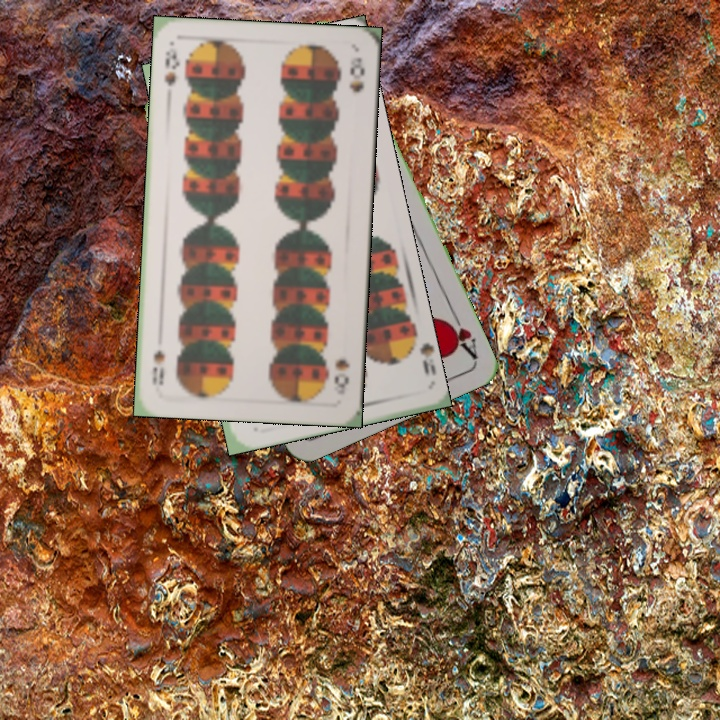HA: (441, 306, 480, 361)
S8: (160, 44, 182, 89), (330, 355, 352, 391)
S9: (400, 326, 436, 378)
